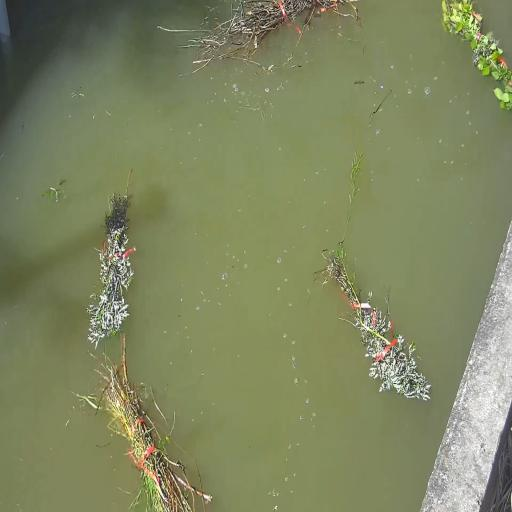twig: (102, 335, 211, 512), (321, 238, 430, 400), (192, 0, 353, 62), (442, 0, 512, 110), (87, 193, 134, 347), (344, 151, 362, 237), (43, 180, 66, 201)
